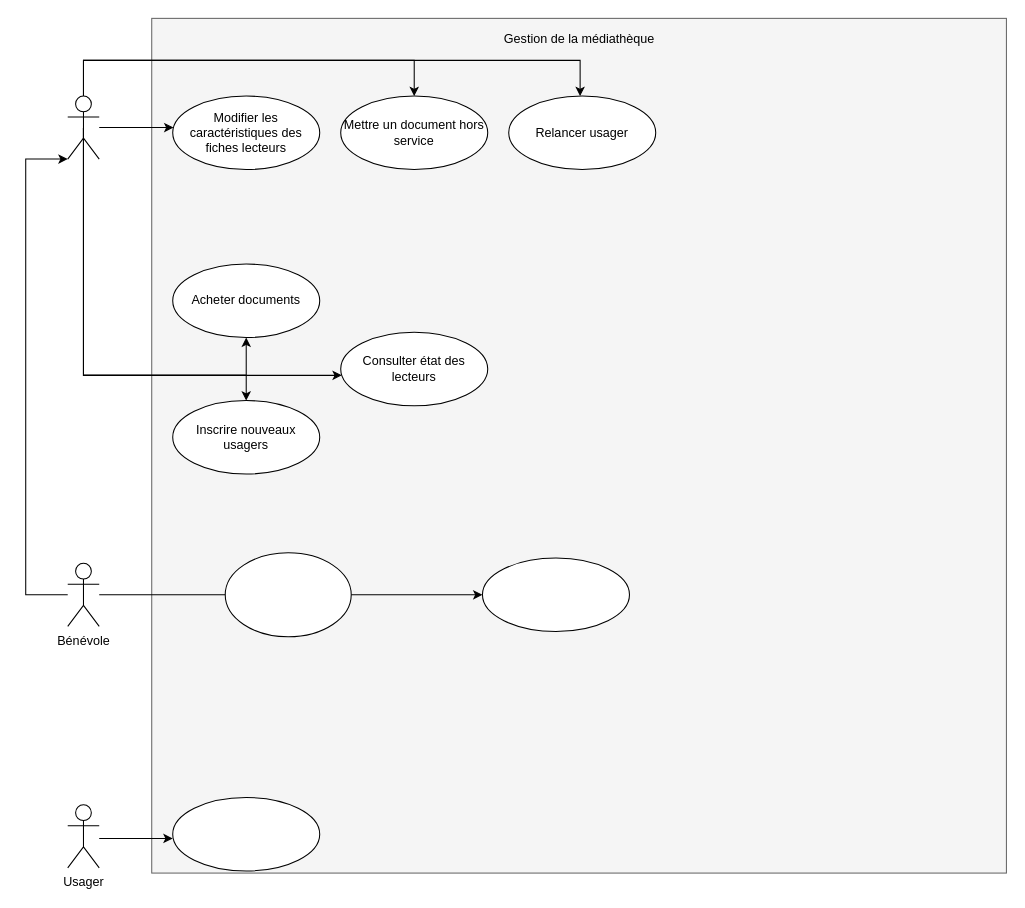
The diagram is 1025 pixels wide and 908 high, and some of its shapes have lost their labels. Each missing label, with the box of its shape:
Bibliothécaire: (67, 95, 99, 159)
Consulter documents: (172, 796, 320, 871)
Emprunter documents: (481, 557, 629, 632)
Se connecte: (224, 552, 351, 637)
